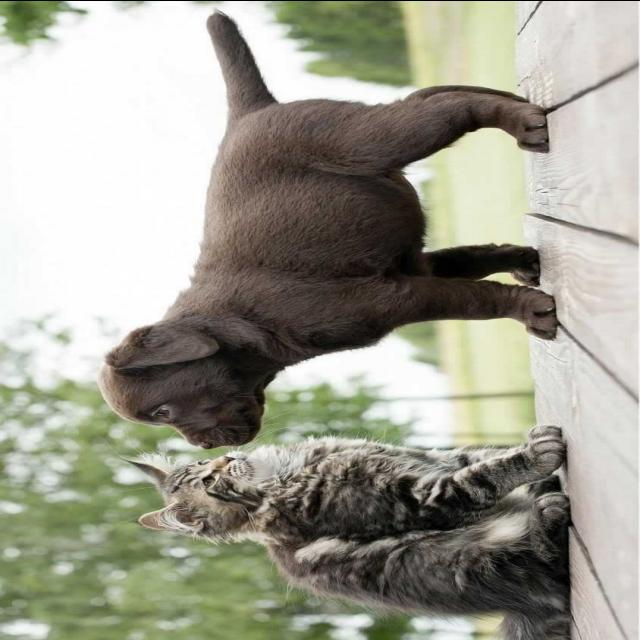cat: (114, 421, 580, 638)
dog: (99, 1, 566, 447)
